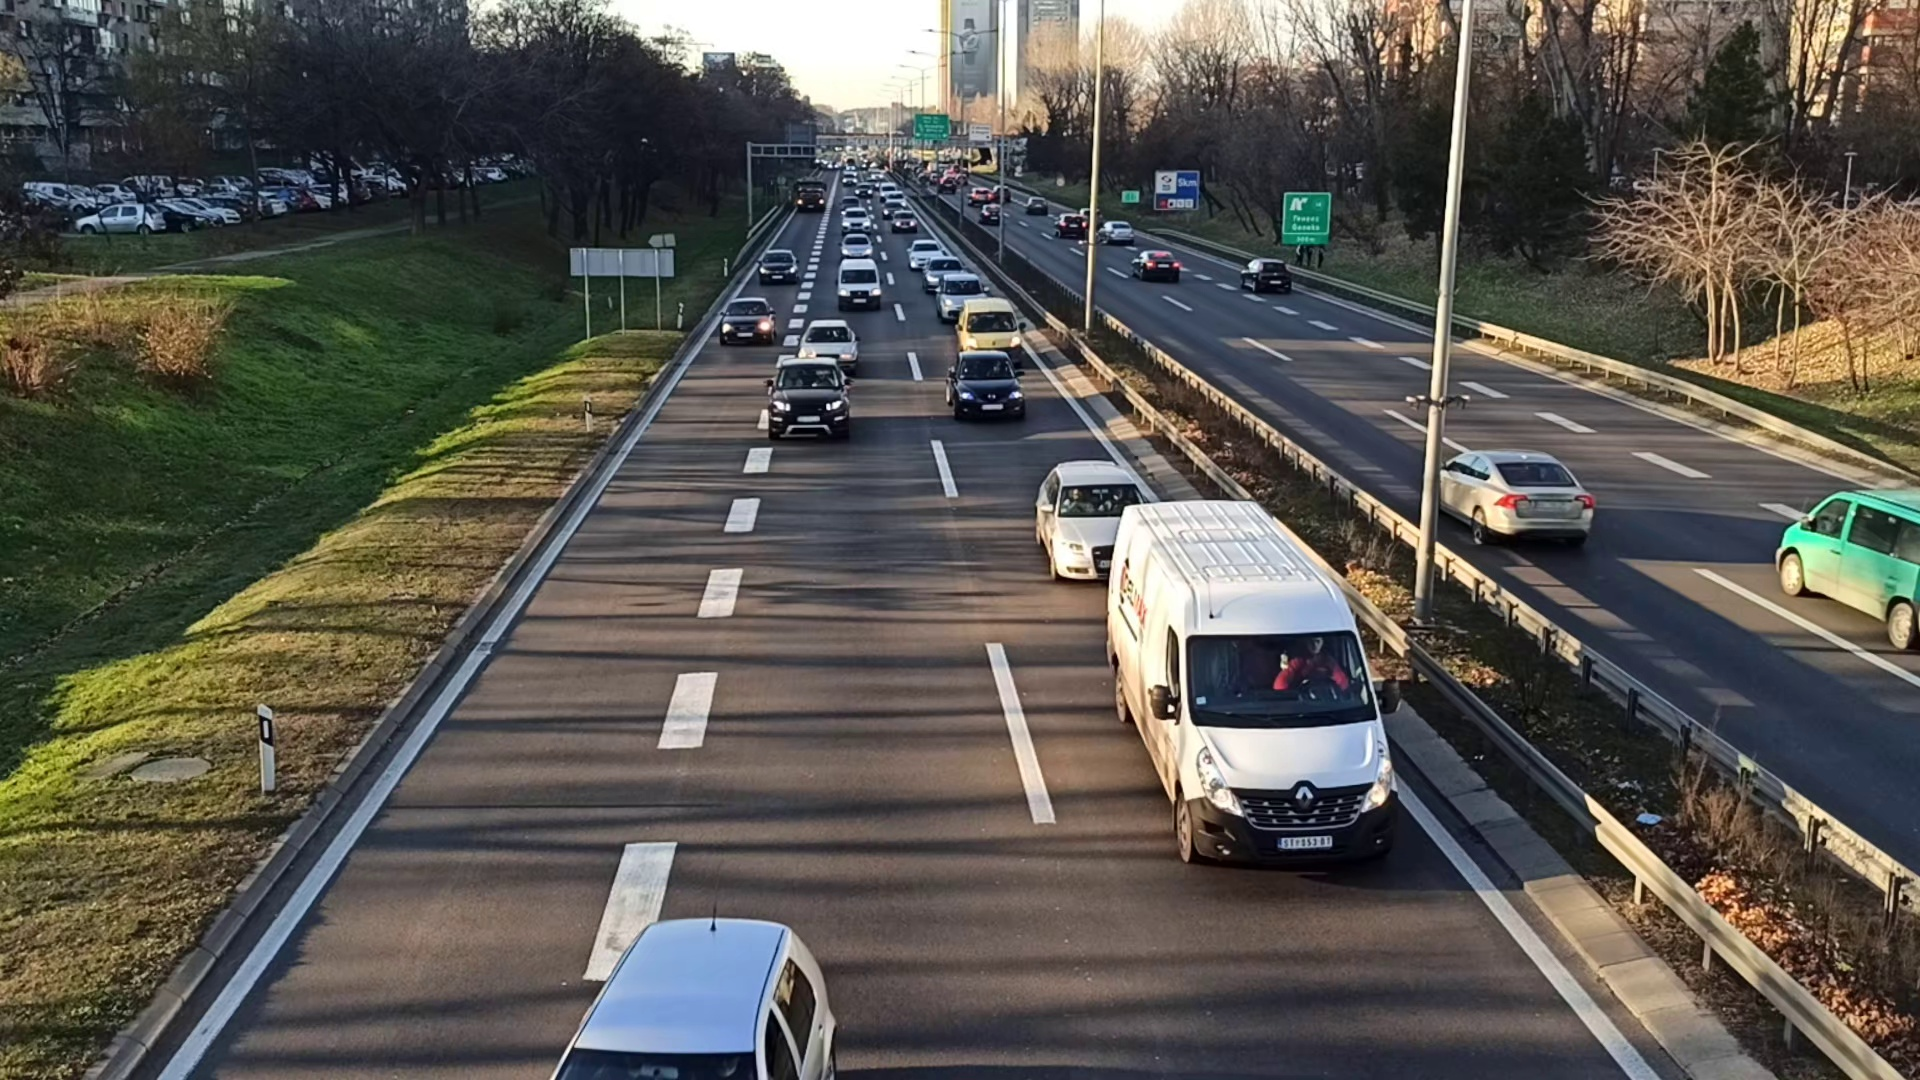car: (1100, 500, 1398, 876), (1437, 444, 1596, 554), (765, 363, 847, 440), (945, 351, 1023, 419), (956, 299, 1021, 356), (798, 318, 858, 364), (720, 295, 773, 343), (837, 258, 881, 311), (758, 249, 798, 282)
